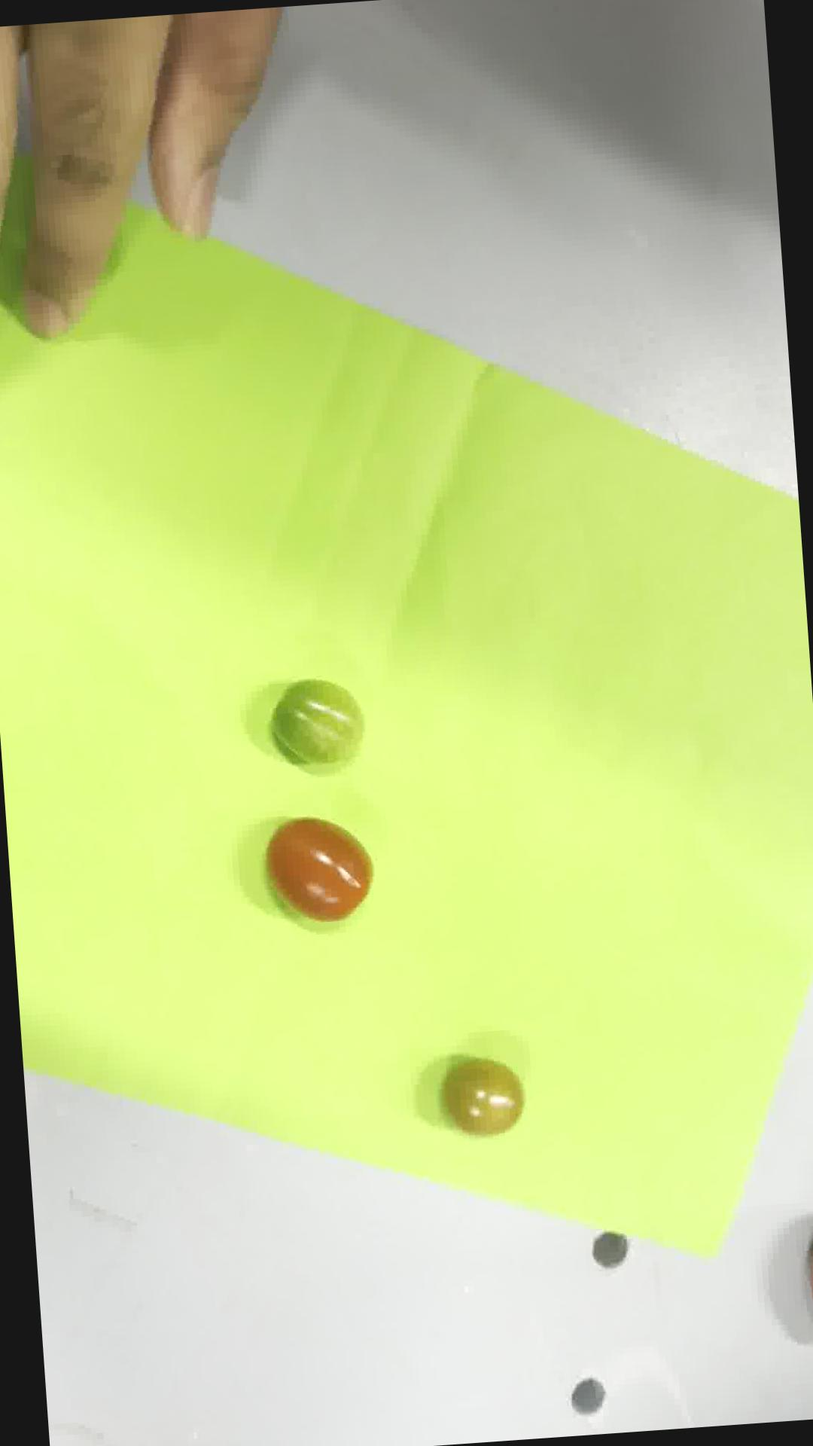green_cherry_tomato: (271, 679, 362, 765)
red_cherry_tomato: (266, 818, 372, 921)
yellow_cherry_tomato: (443, 1059, 523, 1135)
